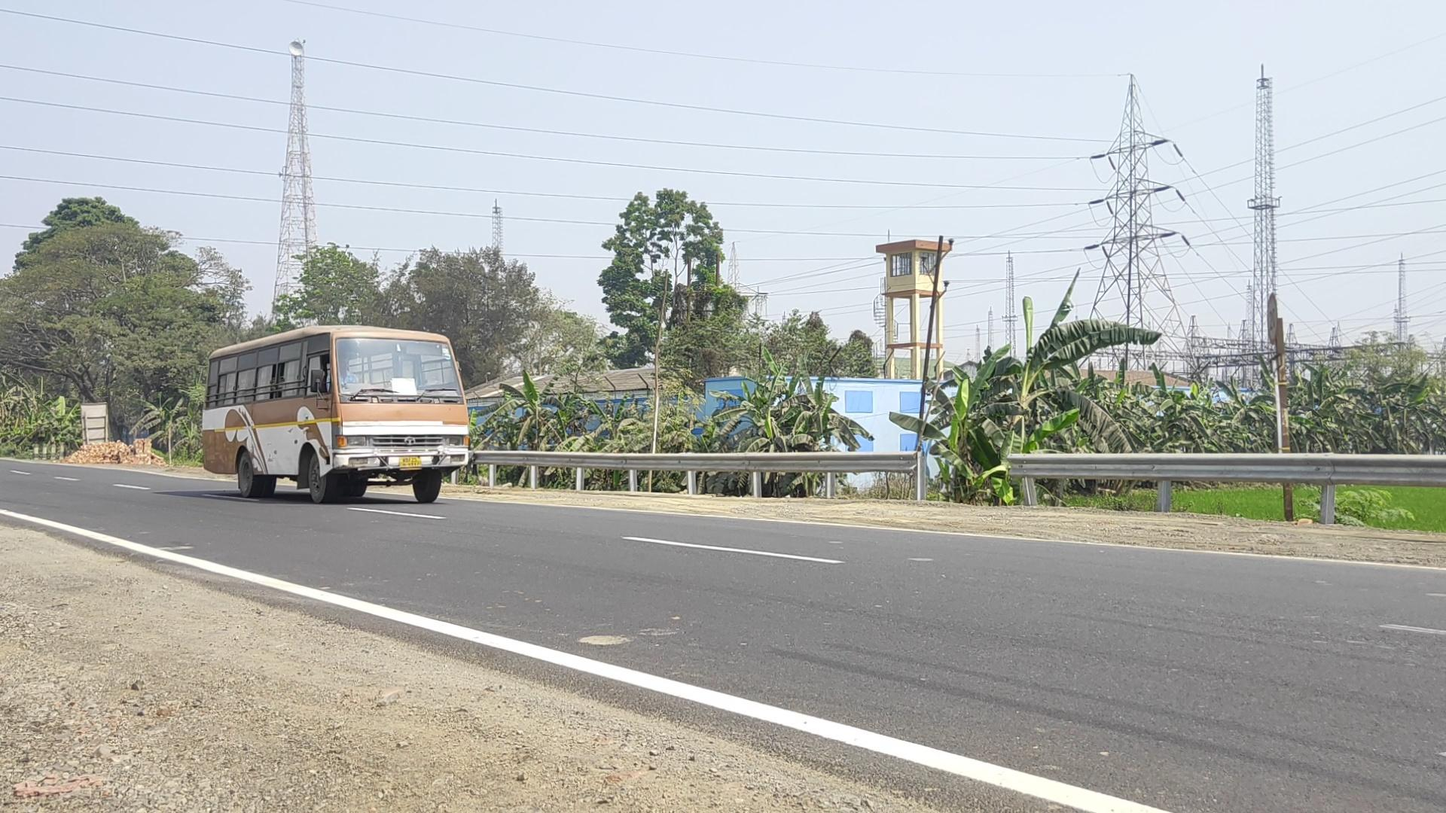Bus: (201, 324, 469, 504)
